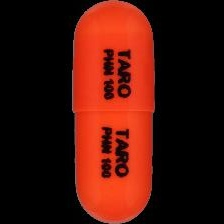21695-167: (0, 0, 224, 224)
